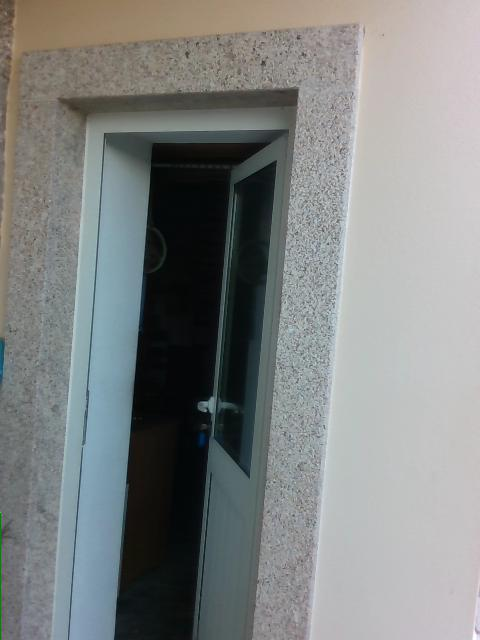semi_door: (51, 100, 293, 639)
